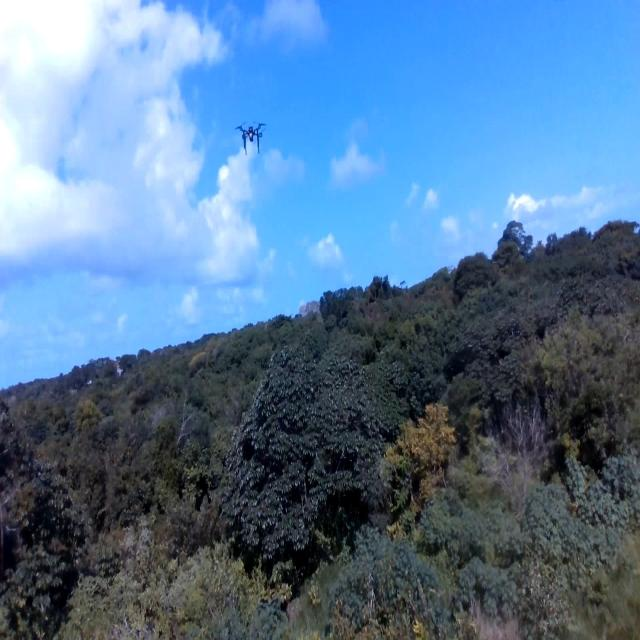-uav-: (234, 110, 268, 172)
